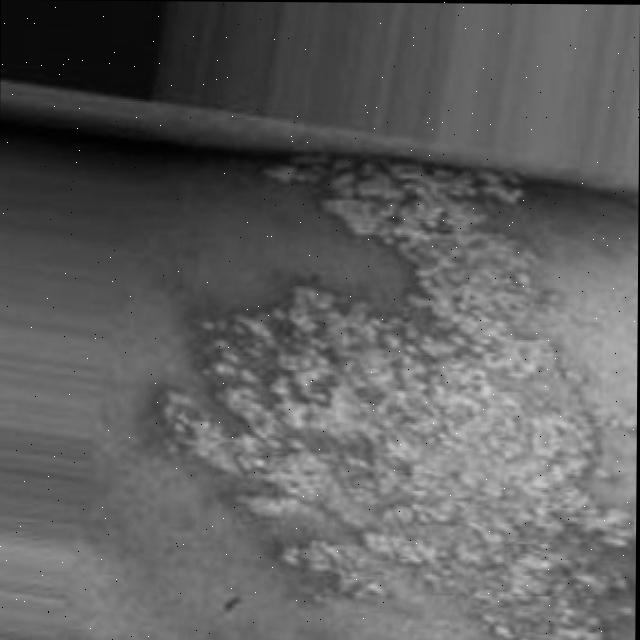Shingles: (153, 157, 638, 640)
